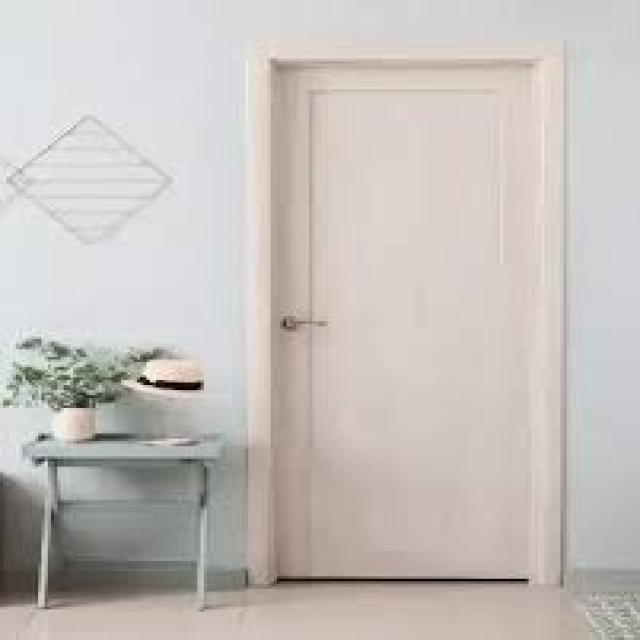door: (267, 50, 564, 582)
